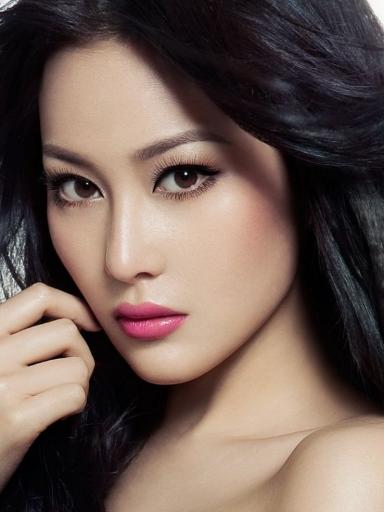left_eye: (152, 158, 228, 203)
left_lip_corner: (179, 307, 194, 327)
right_eye: (54, 176, 107, 210)
right_lip_corner: (112, 312, 127, 329)
